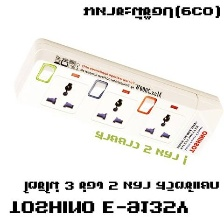three_eye_plug: (8, 36, 224, 159)
